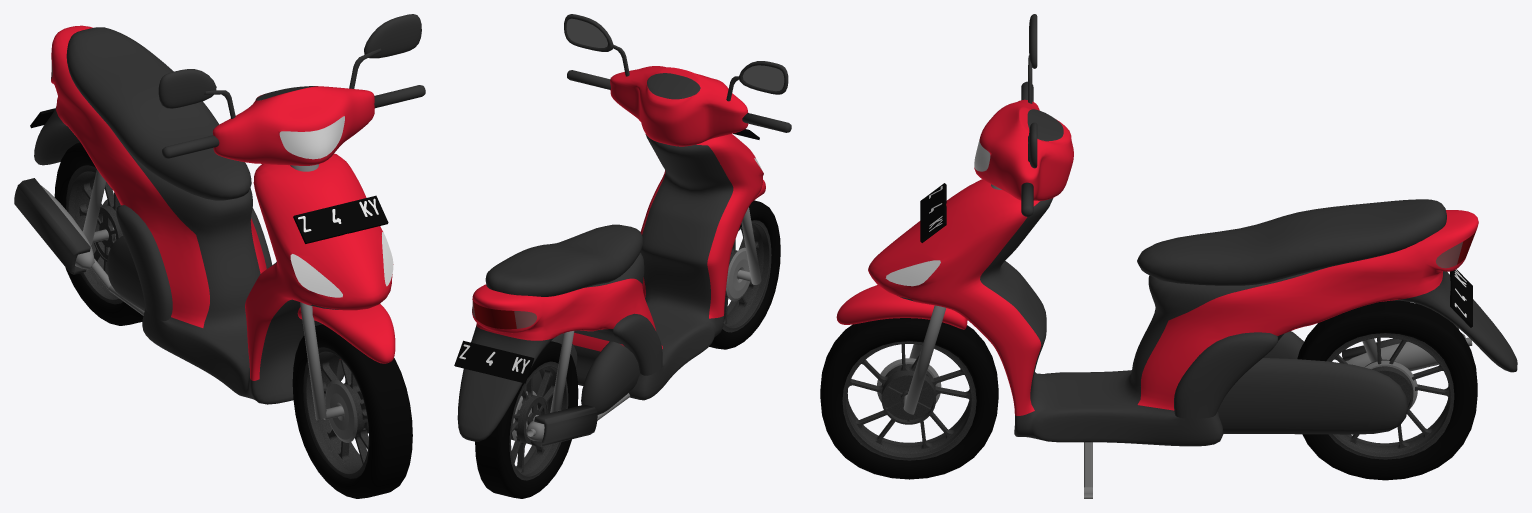
The model's file is motor.glb.
3 views of the same model, side by side, from view 1: azimuth 30°, elevation 25°; view 2: azimuth 150°, elevation 25°; view 3: azimuth 270°, elevation 25° (orthographic). The views are drawn at different scales.
Parts seen in each view (by area): view 1: Cube.002, Cube.006, Cube, Cube.003, Solid1, Cube.013, Cube.011, Solid1.002, Cube.016, Cube.008, Cube.020, Cube.001 (+9 smaller); view 2: Cube.002, Cube.003, Cube.006, Cube.001, Solid1.002, Cube.010, Solid1, Cube, Cube.011, Cube.021, Cube.016, Cube.014 (+6 smaller); view 3: Cube.002, Cube.006, Cube.009, Cube.001, Cube, Solid1, Cube.003, Cube.011, Solid1.002, Cube.008, Cylinder, Cube.015 (+4 smaller).
Part boxes in pixels (box(x1,y1,x2,y2)): Cube.002: box(34, 25, 393, 404); Cube.006: box(66, 27, 251, 200); Cube: box(292, 324, 412, 498); Cube.003: box(212, 86, 374, 165); Solid1: box(303, 347, 369, 478); Cube.013: box(158, 14, 421, 108); Cube.011: box(116, 205, 272, 320); Solid1.002: box(66, 165, 123, 304); Cube.016: box(14, 178, 90, 274); Cube.008: box(297, 304, 395, 363); Cube.020: box(293, 195, 388, 243); Cube.001: box(54, 142, 143, 325); Cube.002: box(457, 134, 763, 441); Cube.003: box(610, 66, 748, 146); Cube.006: box(485, 224, 643, 296); Cube.001: box(475, 341, 578, 498); Solid1.002: box(509, 361, 568, 480); Cube.010: box(581, 341, 639, 414); Solid1: box(722, 220, 771, 332); Cube: box(709, 200, 780, 349); Cube.011: box(613, 313, 662, 375); Cube.021: box(454, 340, 534, 383); Cube.016: box(530, 404, 597, 446); Cube.014: box(566, 18, 784, 91); Cube.002: box(868, 179, 1517, 446); Cube.006: box(1137, 199, 1446, 285); Cube.009: box(1217, 358, 1407, 434); Cube.001: box(1297, 300, 1477, 480); Cube: box(820, 318, 998, 479); Solid1: box(842, 341, 976, 460); Cube.003: box(974, 99, 1073, 200); Cube.011: box(1174, 332, 1277, 418); Solid1.002: box(1326, 333, 1454, 459); Cube.008: box(836, 285, 967, 329); Cylinder: box(903, 305, 946, 414); Cube.015: box(1345, 333, 1465, 371).
Bounding box in the file's own units: 2 × 2.92 × 4.6.
12 materials, 1 textured.
